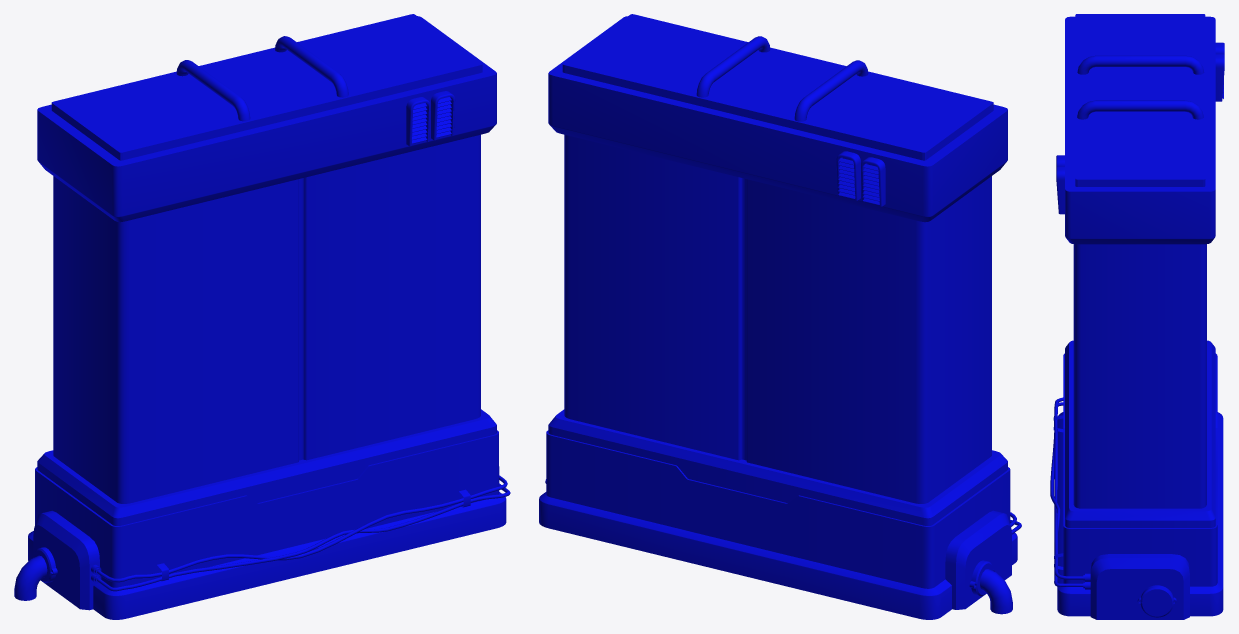
The model's file is Terranium.FBX.
3 views of the same model, side by side, from view 1: azimuth 30°, elevation 25°; view 2: azimuth 150°, elevation 25°; view 3: azimuth 270°, elevation 25° (orthographic). The views are drawn at different scales.
Parts seen in each view (by area): view 1: Terranium_Glass, BioTerrainium; view 2: Terranium_Glass, BioTerrainium; view 3: BioTerrainium, Terranium_Glass.
Boxes of the visible parts, x1,y1,x2,y2 form: Terranium_Glass: [53, 134, 480, 503]; BioTerrainium: [14, 14, 510, 619]; Terranium_Glass: [564, 134, 991, 503]; BioTerrainium: [539, 14, 1021, 619]; BioTerrainium: [1050, 14, 1224, 619]; Terranium_Glass: [1073, 244, 1206, 508].
Bounding box in the file's own units: 100 × 101 × 35.43.
